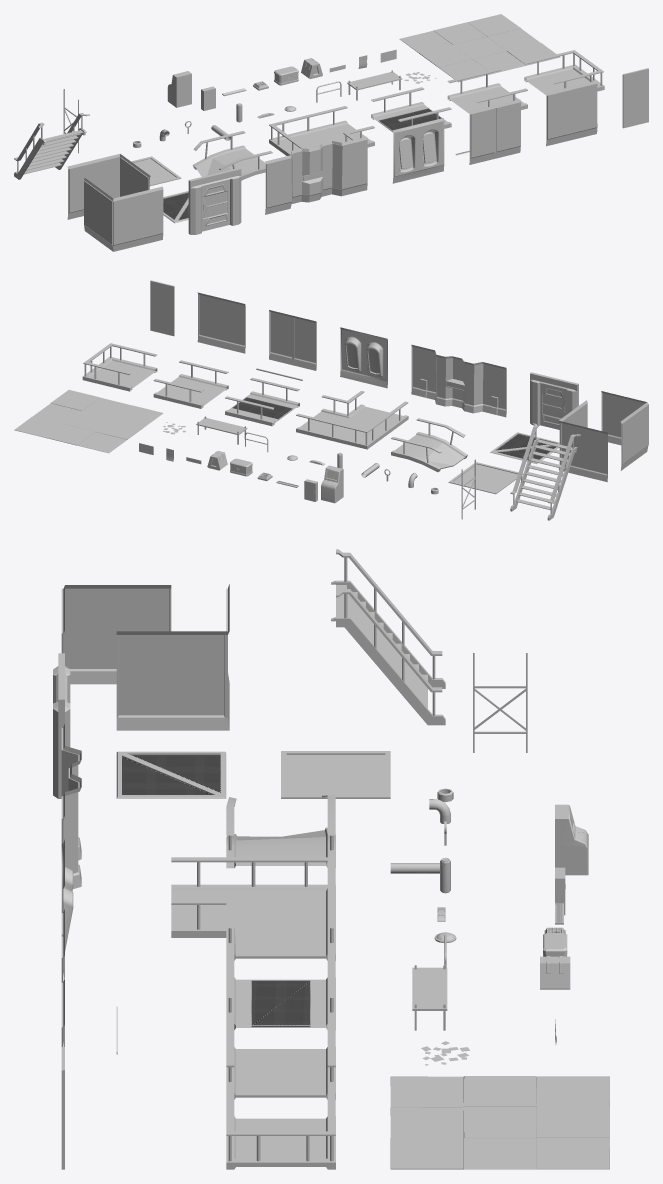
The model's file is Abandoned Factory Modules_01.fbx.
The picture shows the model from 3 angles, top to bottom: view 1: azimuth 30°, elevation 25°; view 2: azimuth 150°, elevation 25°; view 3: azimuth 270°, elevation 25°; orthographic projection. The views are drawn at different scales.
Parts seen in each view (by area): view 1: Factory_Modules:Concrete_Ground, Factory_Modules:Wall_Type4, Factory_Modules:WallCorner_Inward, Factory_Modules:WallCorner_Outward, Factory_Modules:Wall_Type2, Factory_Modules:Wall_Type1, Factory_Modules:Wall_Type3, Factory_Modules:Catwalk_Corner, Factory_Modules:Stairs, Factory_Modules:Catwalk_Broken, Factory_Modules:Catwalk_End, Factory_Modules:DoorFrame (+9 smaller); view 2: Factory_Modules:Concrete_Ground, Factory_Modules:Wall_Type4, Factory_Modules:Catwalk_Corner, Factory_Modules:WallCorner_Inward, Factory_Modules:Stairs, Factory_Modules:WallCorner_Outward, Factory_Modules:Wall_Type1, Factory_Modules:Wall_Type3, Factory_Modules:Wall_Type2, Factory_Modules:Catwalk_Broken, Factory_Modules:Catwalk_End, Factory_Modules:Catwalk (+8 smaller); view 3: Factory_Modules:Concrete_Ground, Factory_Modules:Catwalk_Corner, Factory_Modules:WallCorner_Outward, Factory_Modules:WallCorner_Inward, Factory_Modules:Stairs, Factory_Modules:Catwalk_End, Factory_Modules:Catwalk, Factory_Modules:Catwalk_Grated, Factory_Modules:Grate_Panel, Factory_Modules:Rusted_Panel, Factory_Modules:Catwalk_Broken, Factory_Modules:Wall_Type4 (+6 smaller).
Boxes of the visible parts, x1=… form: Factory_Modules:Concrete_Ground: x1=399, y1=14, x2=560, y2=82; Factory_Modules:Wall_Type4: x1=265, y1=136, x2=367, y2=214; Factory_Modules:WallCorner_Inward: x1=84, y1=178, x2=163, y2=251; Factory_Modules:WallCorner_Outward: x1=67, y1=154, x2=150, y2=219; Factory_Modules:Wall_Type2: x1=469, y1=99, x2=520, y2=164; Factory_Modules:Wall_Type1: x1=546, y1=80, x2=597, y2=146; Factory_Modules:Wall_Type3: x1=392, y1=118, x2=444, y2=183; Factory_Modules:Catwalk_Corner: x1=269, y1=106, x2=374, y2=155; Factory_Modules:Stairs: x1=14, y1=113, x2=89, y2=179; Factory_Modules:Catwalk_Broken: x1=192, y1=131, x2=272, y2=180; Factory_Modules:Catwalk_End: x1=524, y1=50, x2=604, y2=94; Factory_Modules:DoorFrame: x1=188, y1=168, x2=241, y2=234; Factory_Modules:Concrete_Ground: x1=14, y1=390, x2=163, y2=453; Factory_Modules:Wall_Type4: x1=411, y1=344, x2=506, y2=417; Factory_Modules:Catwalk_Corner: x1=296, y1=391, x2=408, y2=449; Factory_Modules:WallCorner_Inward: x1=601, y1=391, x2=648, y2=470; Factory_Modules:Stairs: x1=510, y1=423, x2=580, y2=520; Factory_Modules:WallCorner_Outward: x1=558, y1=400, x2=607, y2=482; Factory_Modules:Wall_Type1: x1=197, y1=292, x2=245, y2=353; Factory_Modules:Wall_Type3: x1=340, y1=327, x2=387, y2=388; Factory_Modules:Wall_Type2: x1=269, y1=310, x2=316, y2=370; Factory_Modules:Catwalk_Broken: x1=391, y1=418, x2=467, y2=472; Factory_Modules:Catwalk_End: x1=82, y1=343, x2=157, y2=391; Factory_Modules:Catwalk: x1=153, y1=360, x2=228, y2=408; Factory_Modules:Concrete_Ground: x1=390, y1=1076, x2=609, y2=1169; Factory_Modules:Catwalk_Corner: x1=171, y1=857, x2=335, y2=960; Factory_Modules:WallCorner_Outward: x1=116, y1=584, x2=229, y2=730; Factory_Modules:WallCorner_Inward: x1=61, y1=585, x2=171, y2=684; Factory_Modules:Stairs: x1=331, y1=549, x2=445, y2=725; Factory_Modules:Catwalk_End: x1=226, y1=1089, x2=335, y2=1169; Factory_Modules:Catwalk: x1=226, y1=1019, x2=335, y2=1099; Factory_Modules:Catwalk_Grated: x1=226, y1=950, x2=335, y2=1030; Factory_Modules:Grate_Panel: x1=116, y1=751, x2=226, y2=798; Factory_Modules:Rusted_Panel: x1=281, y1=751, x2=390, y2=798; Factory_Modules:Catwalk_Broken: x1=226, y1=795, x2=335, y2=868; Factory_Modules:Wall_Type4: x1=61, y1=724, x2=81, y2=889.
Size of the model in its own units: 2623 by 389 by 1269.
